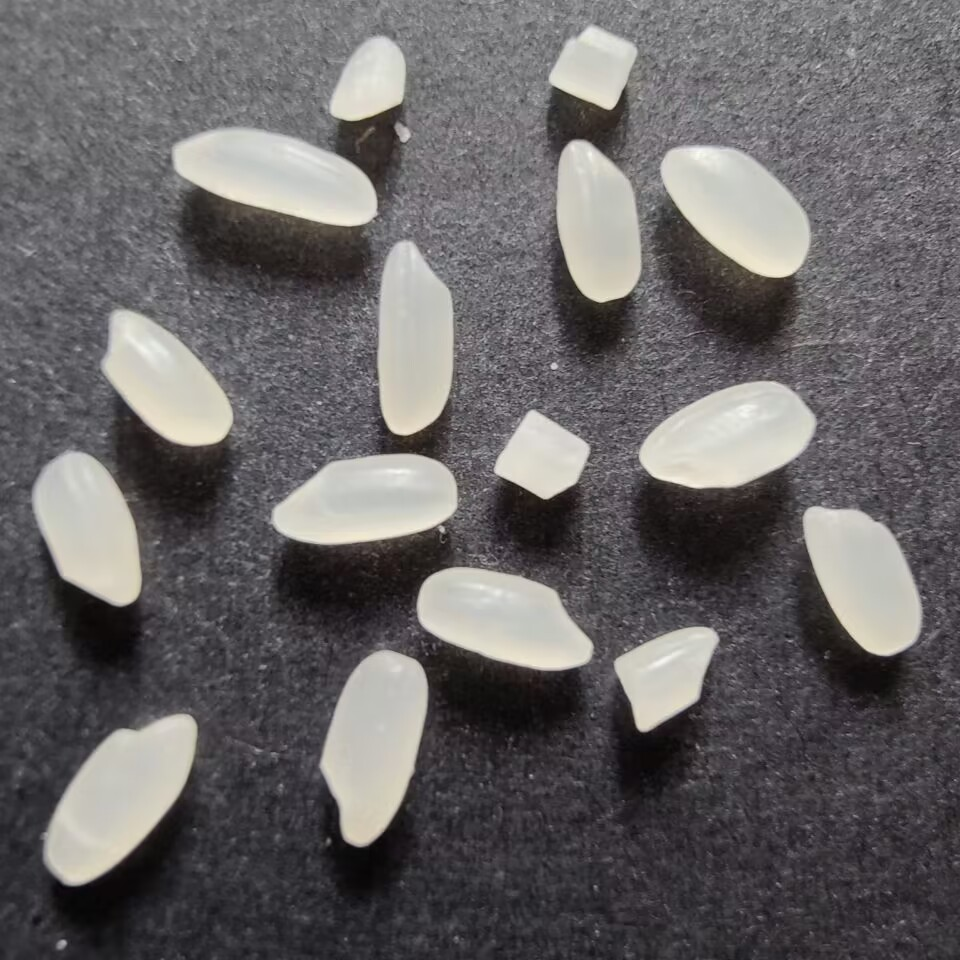broken: (610, 622, 721, 737), (489, 406, 591, 503), (545, 21, 643, 113), (322, 32, 409, 125)
rice: (42, 706, 201, 892), (315, 646, 430, 851), (162, 124, 379, 231), (657, 141, 816, 284), (634, 376, 820, 491), (414, 565, 596, 676), (799, 500, 923, 661), (97, 307, 234, 451), (30, 448, 148, 611), (269, 449, 461, 549), (375, 235, 458, 437), (555, 137, 642, 305)
